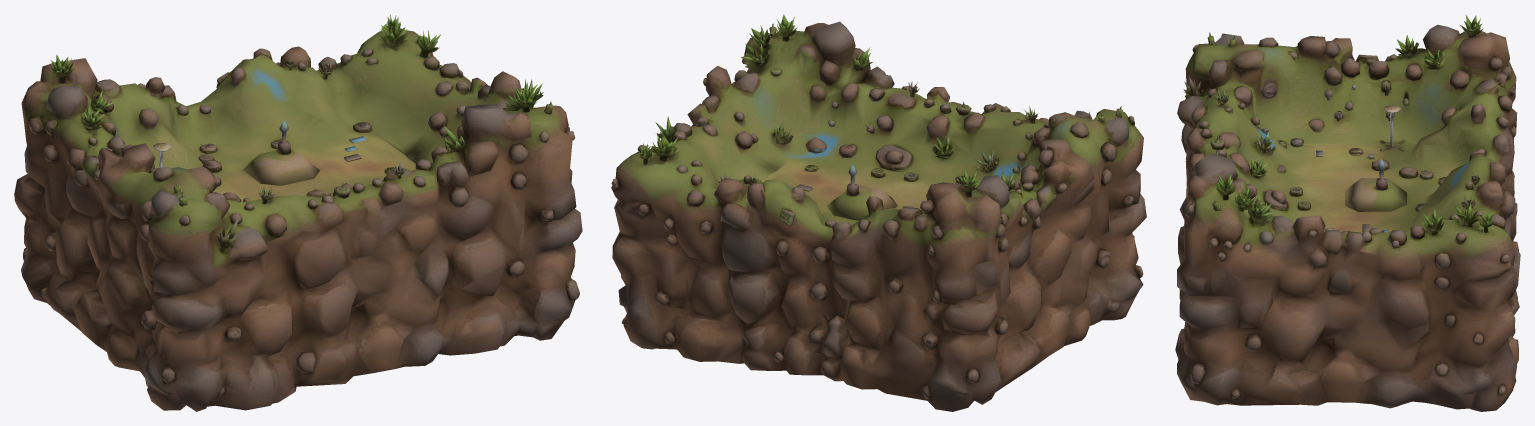
Rendered from VAL_Capital_Environment_Valley_B.glb.
The picture shows the model from 3 angles, left to right: view 1: azimuth 30°, elevation 25°; view 2: azimuth 150°, elevation 25°; view 3: azimuth 270°, elevation 25°; orthographic projection. The views are drawn at different scales.
Parts seen in each view (by area): view 1: tripo_node_8cf82685-dec2-4476-8c86-2116fe39c536; view 2: tripo_node_8cf82685-dec2-4476-8c86-2116fe39c536; view 3: tripo_node_8cf82685-dec2-4476-8c86-2116fe39c536.
Part boxes in pixels (box(x1,y1,x2,y2)): tripo_node_8cf82685-dec2-4476-8c86-2116fe39c536: box(14, 14, 582, 411); tripo_node_8cf82685-dec2-4476-8c86-2116fe39c536: box(611, 14, 1146, 411); tripo_node_8cf82685-dec2-4476-8c86-2116fe39c536: box(1175, 14, 1520, 411).
Bounding box in the file's own units: 0.998 × 0.584 × 0.7715.
1 material, 1 textured.
